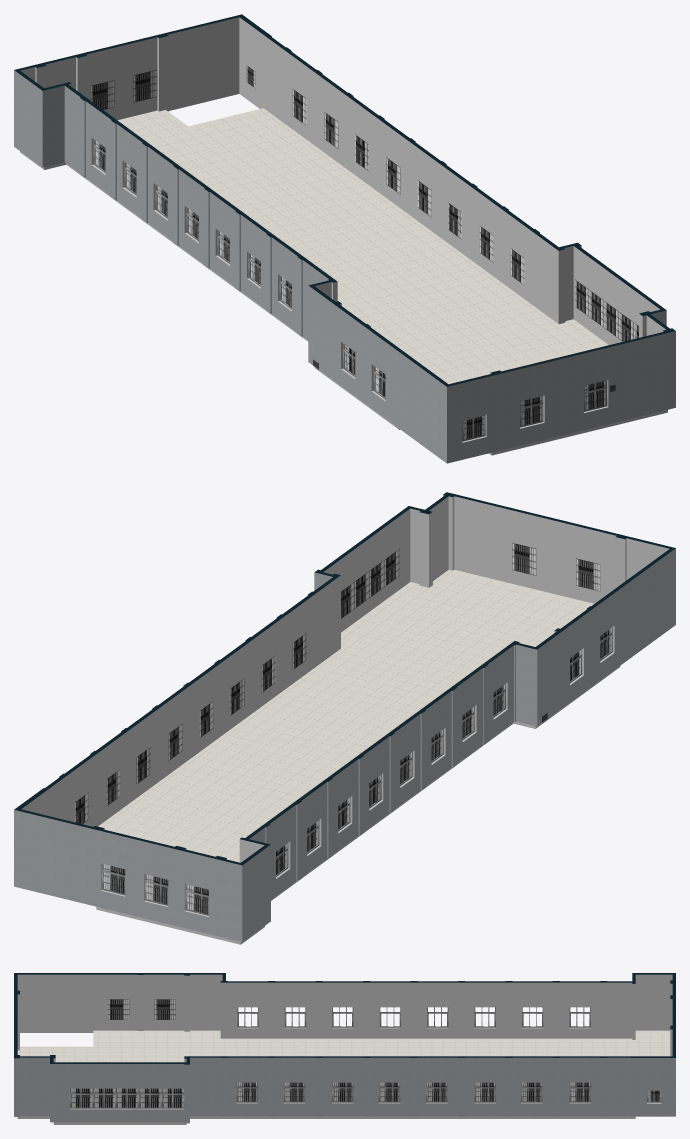
File: hkjls_hkjls_f05_out_T005.obj
3 renders of one model, top to bottom at view 1: azimuth 30°, elevation 25°; view 2: azimuth 150°, elevation 25°; view 3: azimuth 270°, elevation 25°, orthographic. The views are drawn at different scales.
Visible parts, largest first — view 1: hkjls_hkjls_f05_out_004_H005, hkjls_hkjls_f05_out_001_H005, hkjls_hkjls_f05_out_002_H005, hkjls_hkjls_f05_out_ch_002_T015, hkjls_hkjls_f05_out_003_H005, hkjls_hkjls_f05_out_ch_001_T015; view 2: hkjls_hkjls_f05_out_004_H005, hkjls_hkjls_f05_out_001_H005, hkjls_hkjls_f05_out_002_H005, hkjls_hkjls_f05_out_ch_002_T015, hkjls_hkjls_f05_out_003_H005, hkjls_hkjls_f05_out_ch_001_T015; view 3: hkjls_hkjls_f05_out_002_H005, hkjls_hkjls_f05_out_004_H005, hkjls_hkjls_f05_out_001_H005, hkjls_hkjls_f05_out_ch_002_T015, hkjls_hkjls_f05_out_ch_001_T015, hkjls_hkjls_f05_out_003_H005.
Part boxes in pixels (<box>): hkjls_hkjls_f05_out_004_H005: <box>14,36,675,463</box>; hkjls_hkjls_f05_out_001_H005: <box>117,108,608,384</box>; hkjls_hkjls_f05_out_002_H005: <box>20,17,667,455</box>; hkjls_hkjls_f05_out_ch_002_T015: <box>90,65,638,439</box>; hkjls_hkjls_f05_out_003_H005: <box>14,14,675,386</box>; hkjls_hkjls_f05_out_ch_001_T015: <box>93,139,607,441</box>; hkjls_hkjls_f05_out_004_H005: <box>14,495,675,942</box>; hkjls_hkjls_f05_out_001_H005: <box>98,569,593,862</box>; hkjls_hkjls_f05_out_002_H005: <box>21,496,669,944</box>; hkjls_hkjls_f05_out_ch_002_T015: <box>74,543,610,914</box>; hkjls_hkjls_f05_out_003_H005: <box>14,492,675,865</box>; hkjls_hkjls_f05_out_ch_001_T015: <box>102,627,612,915</box>; hkjls_hkjls_f05_out_002_H005: <box>17,974,672,1124</box>; hkjls_hkjls_f05_out_004_H005: <box>14,1057,675,1123</box>; hkjls_hkjls_f05_out_001_H005: <box>17,1030,670,1062</box>; hkjls_hkjls_f05_out_ch_002_T015: <box>71,999,660,1107</box>; hkjls_hkjls_f05_out_ch_001_T015: <box>69,1007,661,1108</box>; hkjls_hkjls_f05_out_003_H005: <box>14,973,675,1064</box>.
Bounding box in the file's own units: 1511 × 480 × 4605.
8 materials, 8 textured.
